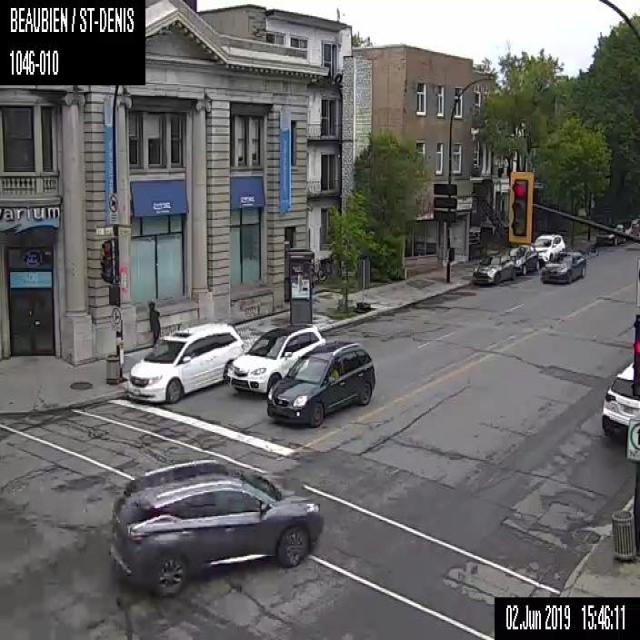pedestrian: (148, 299, 160, 347)
vehicle: (109, 458, 320, 597), (126, 322, 243, 402), (266, 340, 374, 426), (227, 323, 326, 398), (601, 360, 639, 437), (540, 250, 586, 283), (472, 252, 515, 284), (531, 233, 565, 265), (506, 244, 539, 274), (595, 223, 625, 245), (617, 218, 635, 236)
